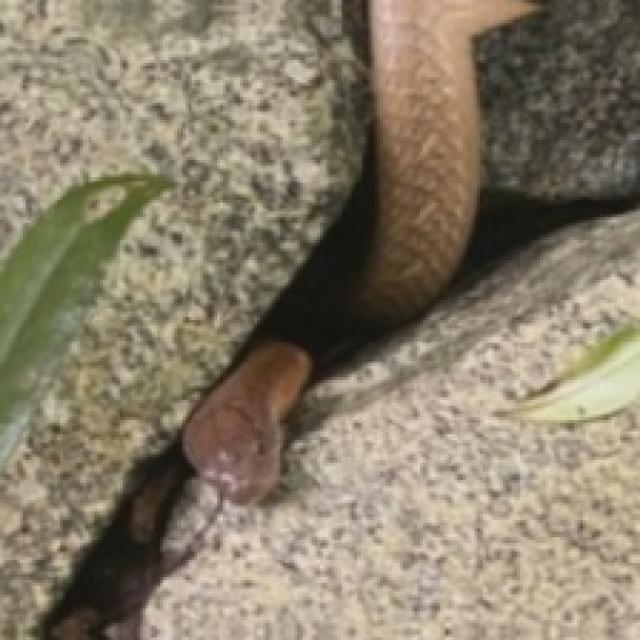king cobra: (257, 0, 520, 360), (46, 506, 166, 637), (517, 326, 637, 420), (326, 520, 414, 629), (346, 366, 434, 420), (137, 446, 189, 526), (291, 403, 346, 434), (429, 349, 446, 366), (406, 609, 414, 629), (334, 394, 343, 406), (394, 474, 403, 486)
